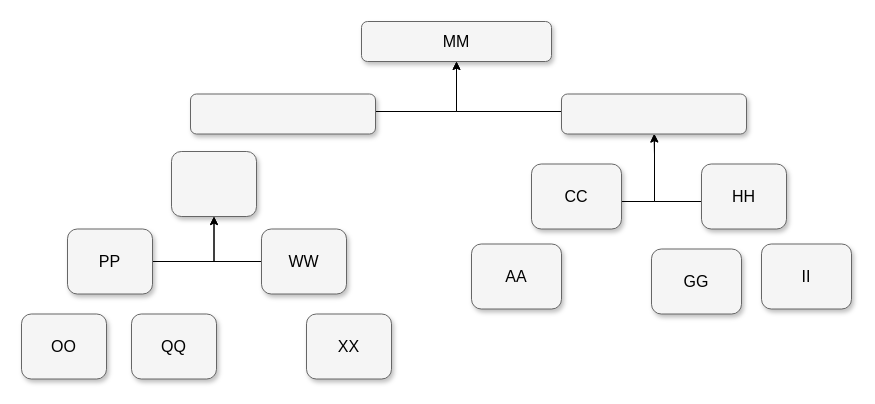
This 875x404 diagram has some shape labels left out. Each missing label, with the centre of its shape:
FF: (654,115)
NN: (284,115)
SS: (214,185)
